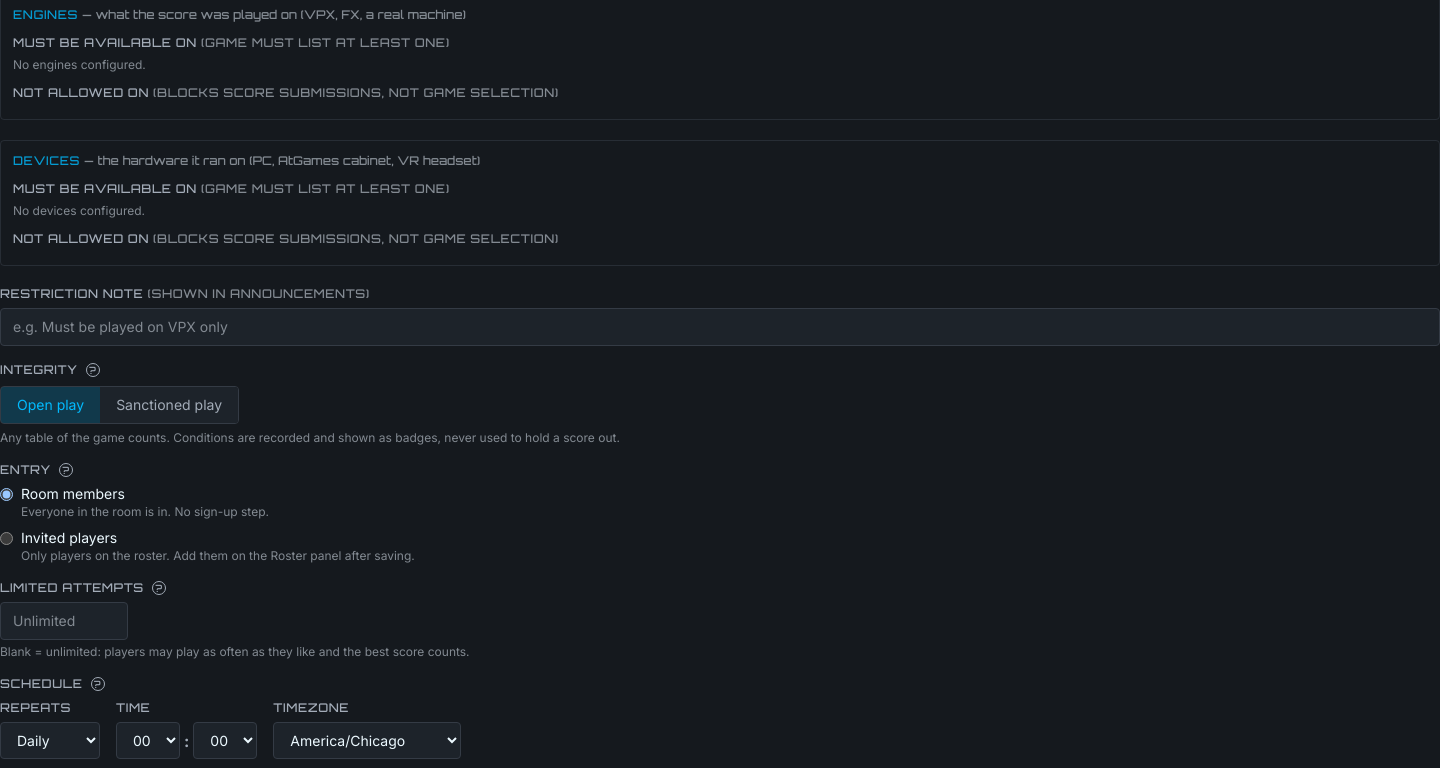
TournamentForm — Integrity section › tuned rules survive a switch to Open play and back
(page scrolled)
Step 1. Click the button "Sanctioned play" → point(169, 405), box [100,387,238,423]
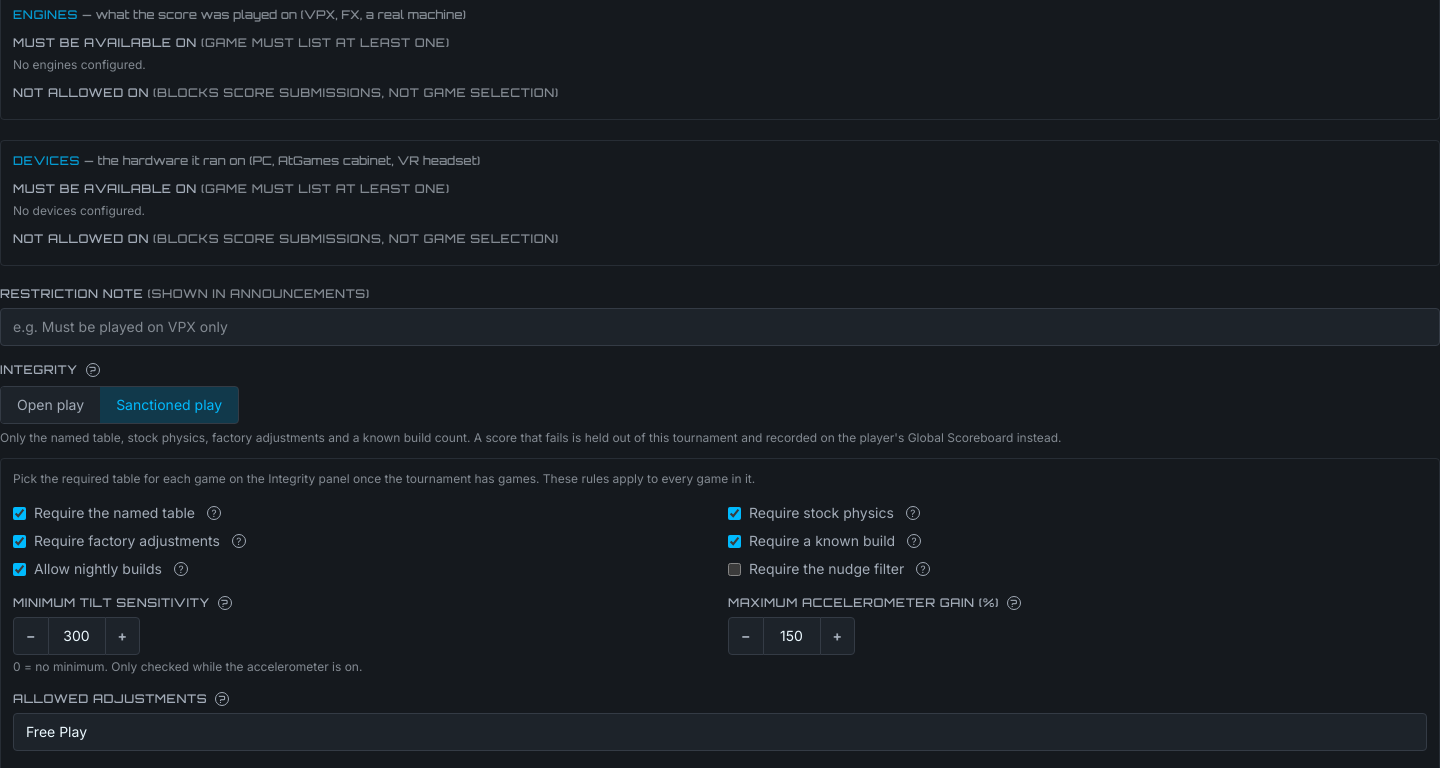
Step 2. Replace the text in the number field named "Minimum tilt sensitivity" with "500" → point(76, 636), box [48,617,104,655]
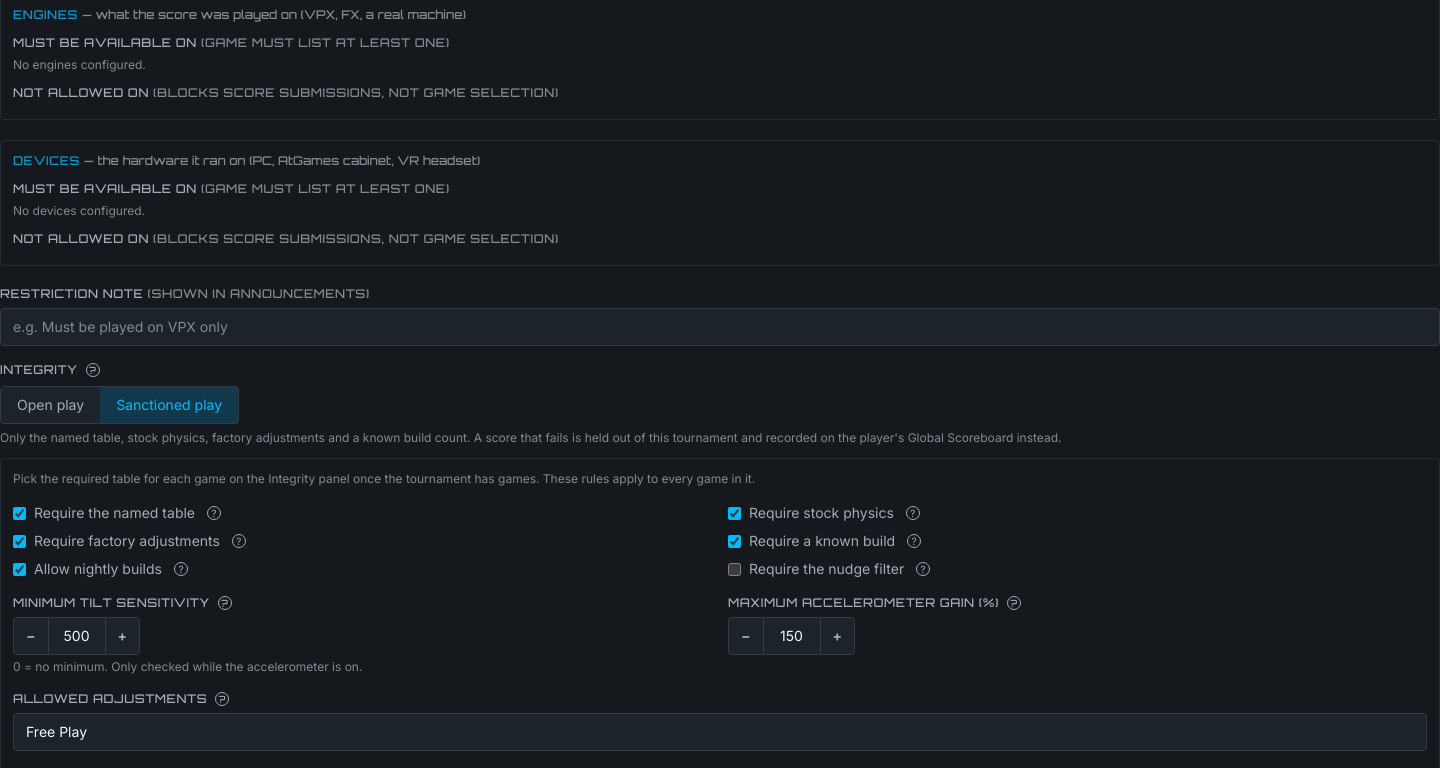
Step 3. Click the button "Open play" → point(51, 405), box [1,387,100,423]
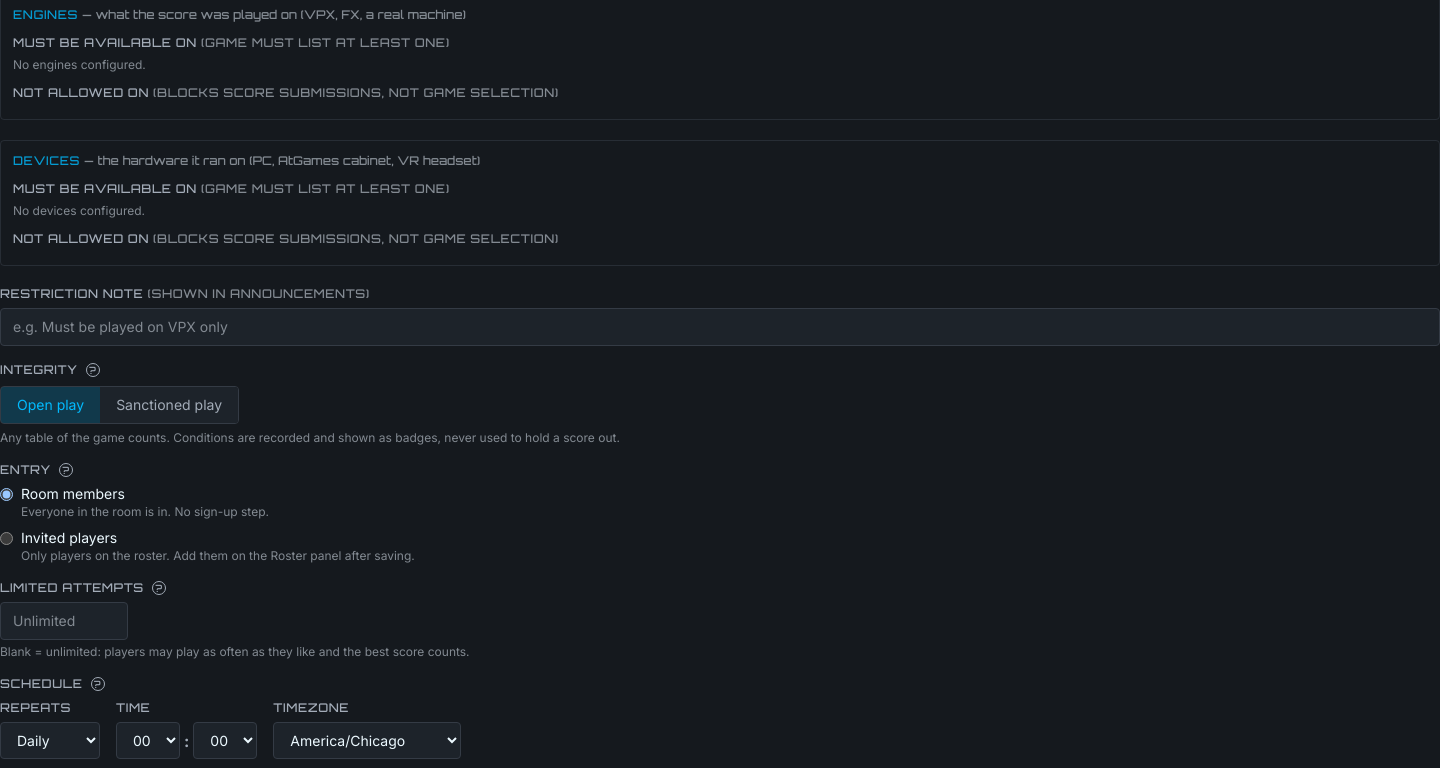
Step 4. Click the button "Sanctioned play" → point(169, 405), box [100,387,238,423]
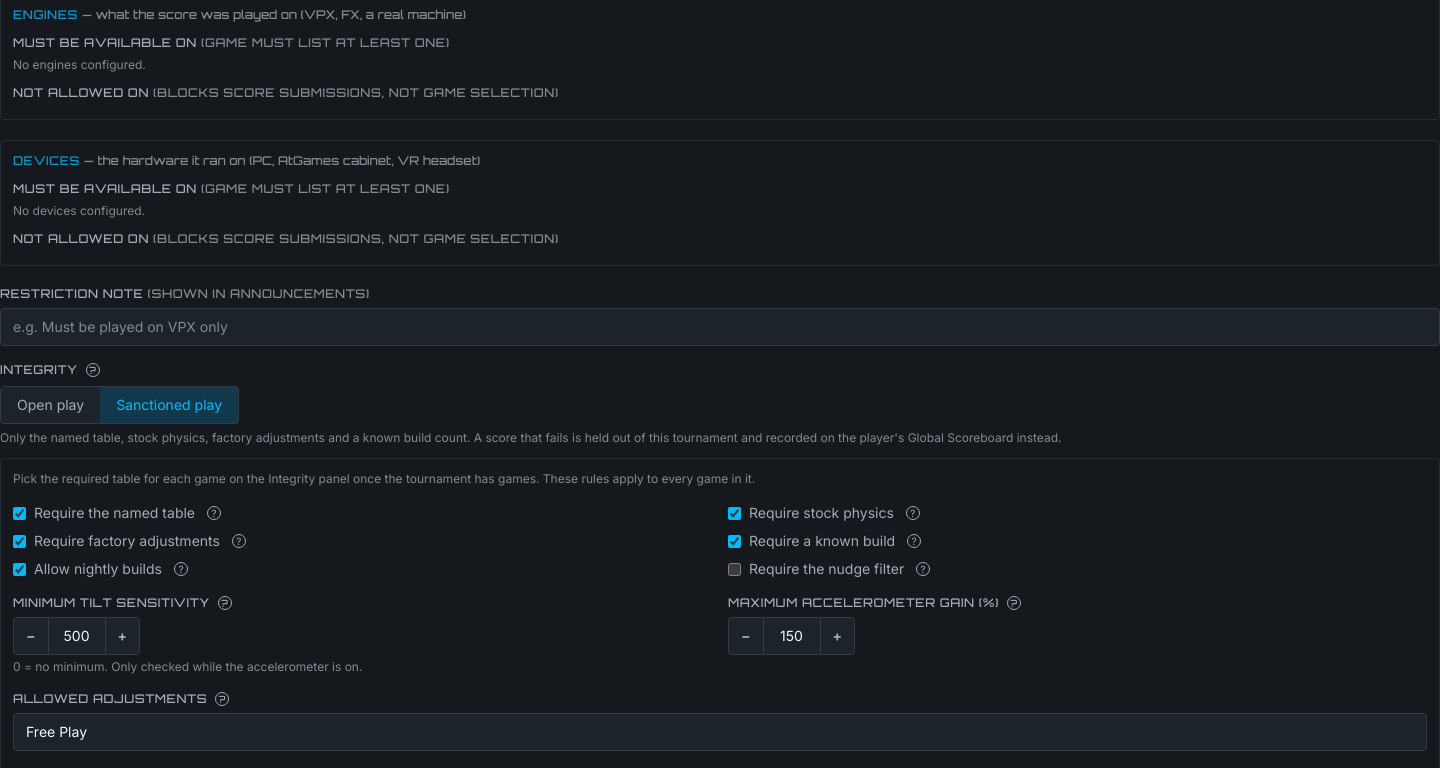
Check: the number field named "Minimum tilt sensitivity" holds "500", box [48,617,104,655]
